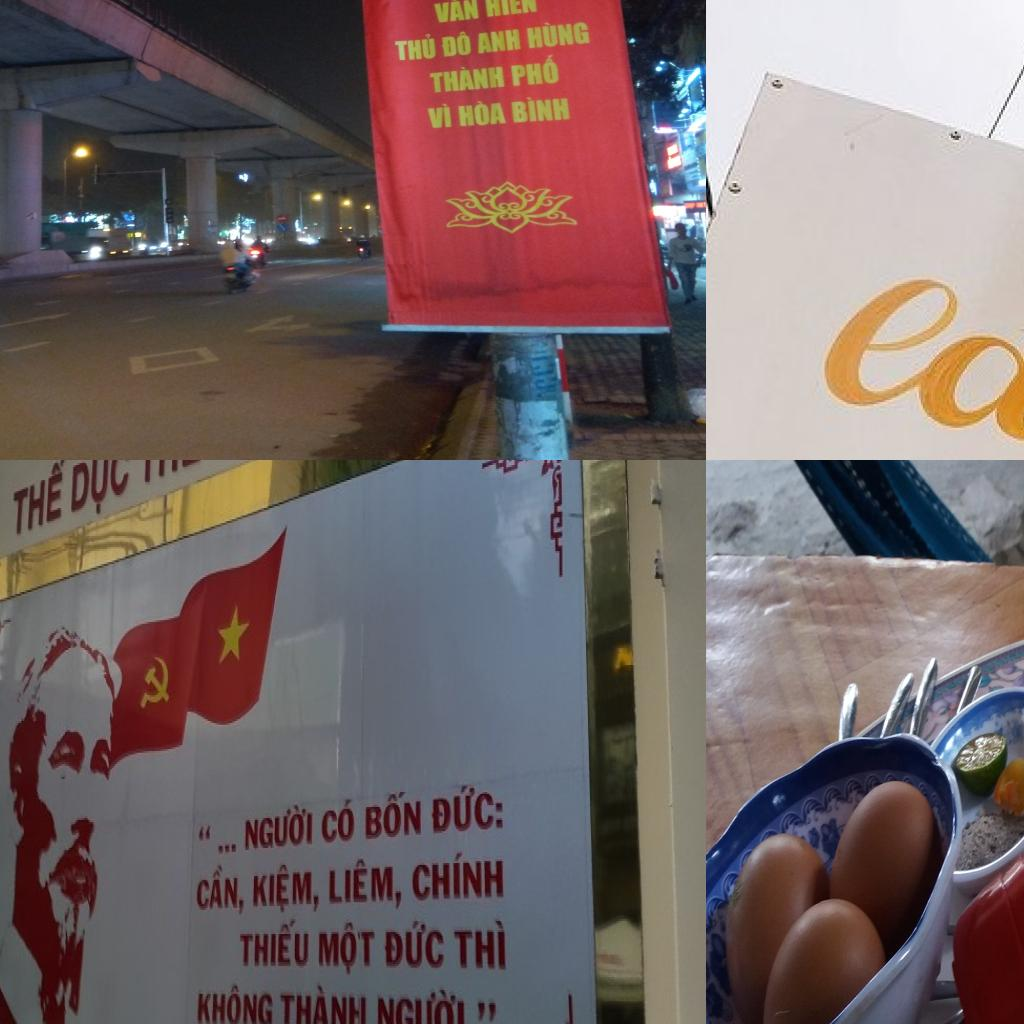text: (802, 254, 1024, 456), (410, 844, 508, 910), (372, 984, 516, 1024), (427, 775, 506, 843), (326, 850, 406, 917), (9, 460, 69, 543), (242, 794, 316, 859), (237, 912, 314, 972), (250, 857, 324, 919), (67, 460, 134, 528), (381, 913, 448, 979), (362, 783, 425, 848), (277, 980, 370, 1024), (452, 913, 512, 979), (190, 860, 248, 928), (315, 917, 378, 979), (193, 977, 276, 1024), (424, 62, 507, 94), (193, 816, 242, 869), (318, 790, 359, 852), (523, 17, 593, 51), (137, 460, 205, 493), (508, 52, 563, 90), (508, 94, 574, 125), (455, 98, 509, 128), (390, 32, 440, 64), (476, 26, 524, 56), (429, 0, 481, 25), (481, 0, 541, 19), (440, 29, 473, 60), (424, 102, 455, 130)
